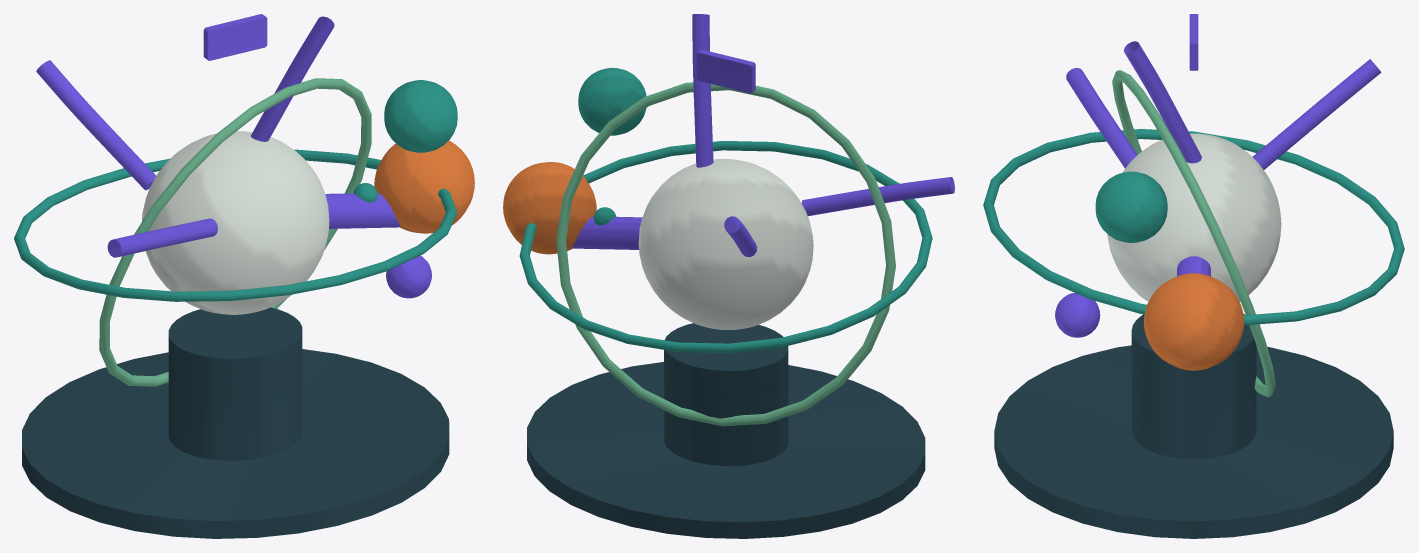
The model's file is 0526_生活中的化学图鉴_碳纤维.glb.
3 renders of one model, left to right at view 1: azimuth 30°, elevation 25°; view 2: azimuth 150°, elevation 25°; view 3: azimuth 270°, elevation 25°, orthographic. The views are drawn at different scales.
Parts seen in each view (by area): view 1: card_0526; view 2: card_0526; view 3: card_0526.
Boxes of the visible parts, x1=… form: card_0526: x1=14, y1=14, x2=474, y2=538; card_0526: x1=503, y1=14, x2=954, y2=538; card_0526: x1=983, y1=14, x2=1404, y2=538.
Bounding box in the file's own units: 1.01 × 1 × 0.8819.
